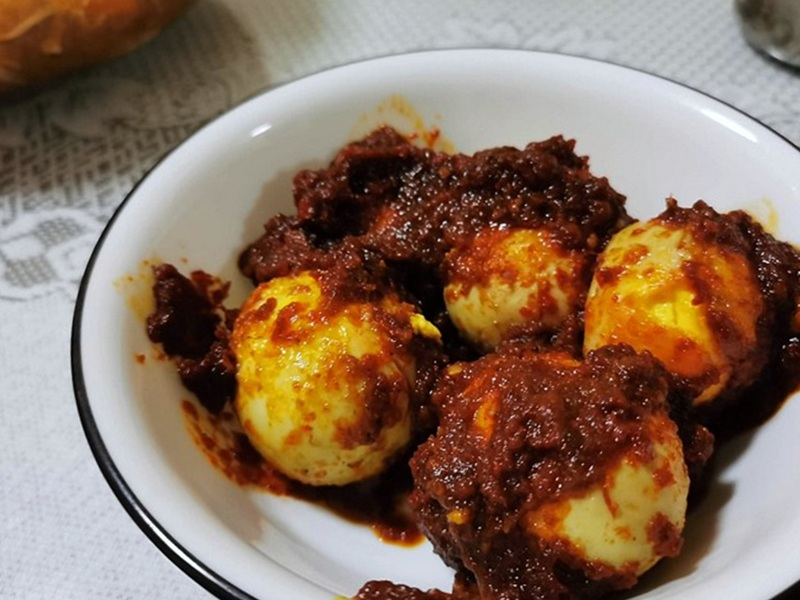Telur Balado: (160, 158, 745, 587)
